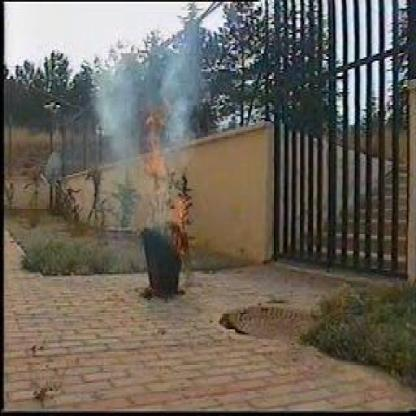-: (103, 35, 196, 164)
foggia-v2-map80-epoch100 - v1 4323: (171, 188, 190, 235)
